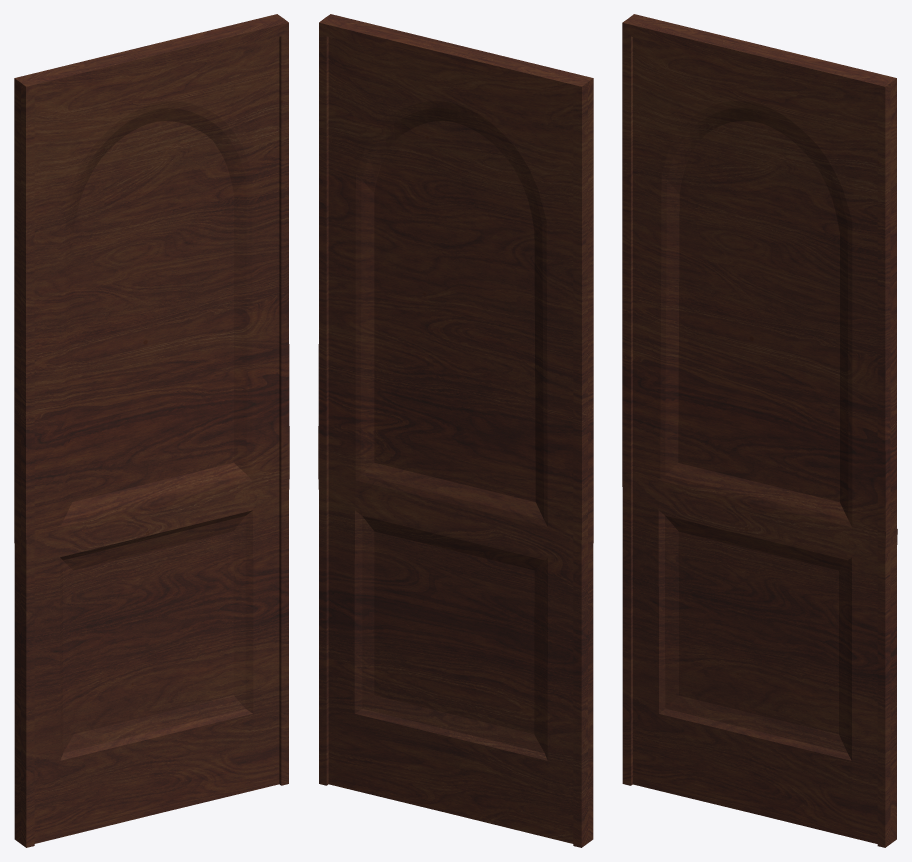
The model's file is PUERTA49_PICCADILLY.glb.
3 renders of one model, left to right at view 1: azimuth 30°, elevation 25°; view 2: azimuth 150°, elevation 25°; view 3: azimuth 330°, elevation 25°, orthographic.
Visible parts, largest first — view 1: Puerta49_PICCADILLY; view 2: Puerta49_PICCADILLY; view 3: Puerta49_PICCADILLY.
Boxes of the visible parts, x1,y1,x2,y2 form: Puerta49_PICCADILLY: (14,14,289,847); Puerta49_PICCADILLY: (318,14,593,847); Puerta49_PICCADILLY: (622,14,897,847).
Bounding box in the file's own units: 689 × 1902 × 53.6.
Materials: 2 (2 with a texture image).
